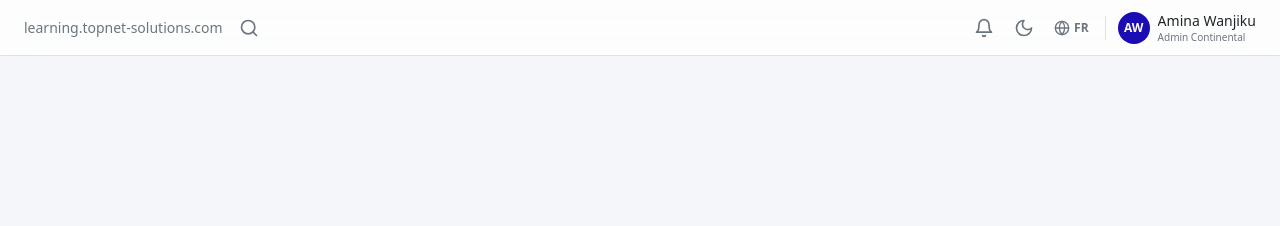
Test: Header › opens language dropdown on click
Click the button with aria-label "Select language".
click(1071, 28)  # box [1046, 14, 1097, 42]
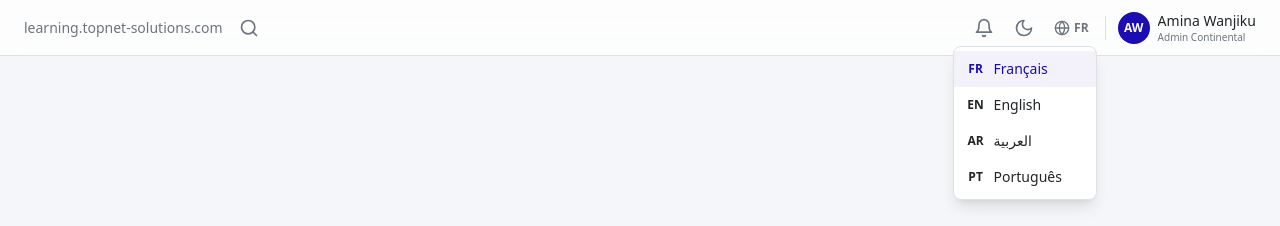
Now the button "FR Français" is shown, box [954, 50, 1096, 86]
Now the button "EN English" is shown, box [954, 86, 1096, 122]
Now the button "AR العربية" is shown, box [954, 122, 1096, 158]
